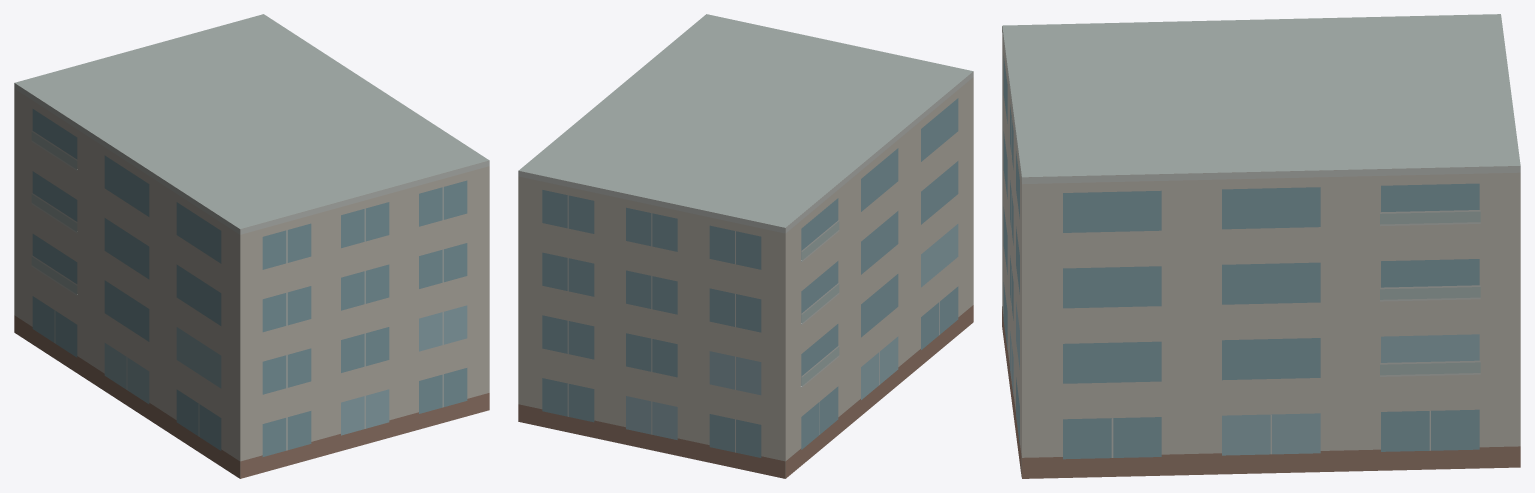
The model's file is survey-upis-33046184.glb.
3 views of the same model, side by side, from view 1: azimuth 30°, elevation 25°; view 2: azimuth 150°, elevation 25°; view 3: azimuth 270°, elevation 25° (orthographic). The views are drawn at different scales.
Visible parts, largest first — view 1: survey-upis-33046184.tmp; view 2: survey-upis-33046184.tmp; view 3: survey-upis-33046184.tmp.
Boxes of the visible parts, x1,y1,x2,y2 form: survey-upis-33046184.tmp: (14, 14, 489, 478); survey-upis-33046184.tmp: (518, 14, 973, 478); survey-upis-33046184.tmp: (1002, 14, 1520, 478).
Size of the model in its own units: 12.37 by 10.65 by 16.6.
